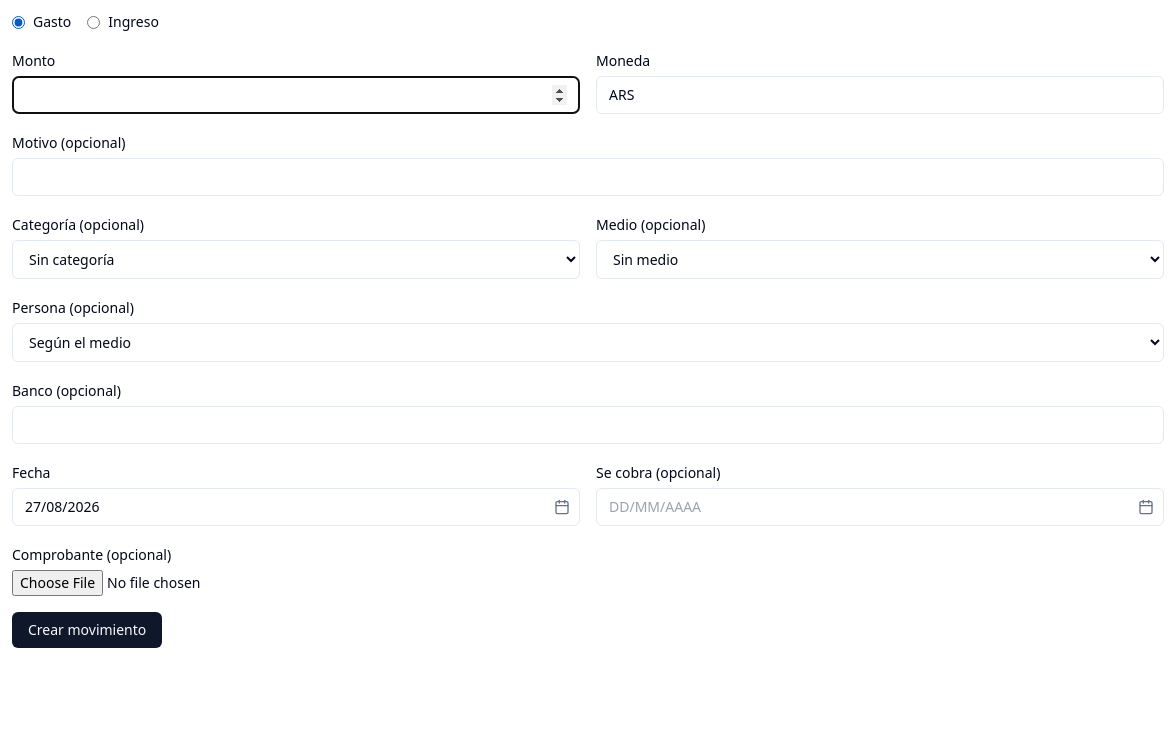
TransactionForm › exige una moneda de 3 letras
Type "100" into the number field labelled "Monto" at (296, 95), box [12, 76, 580, 114]
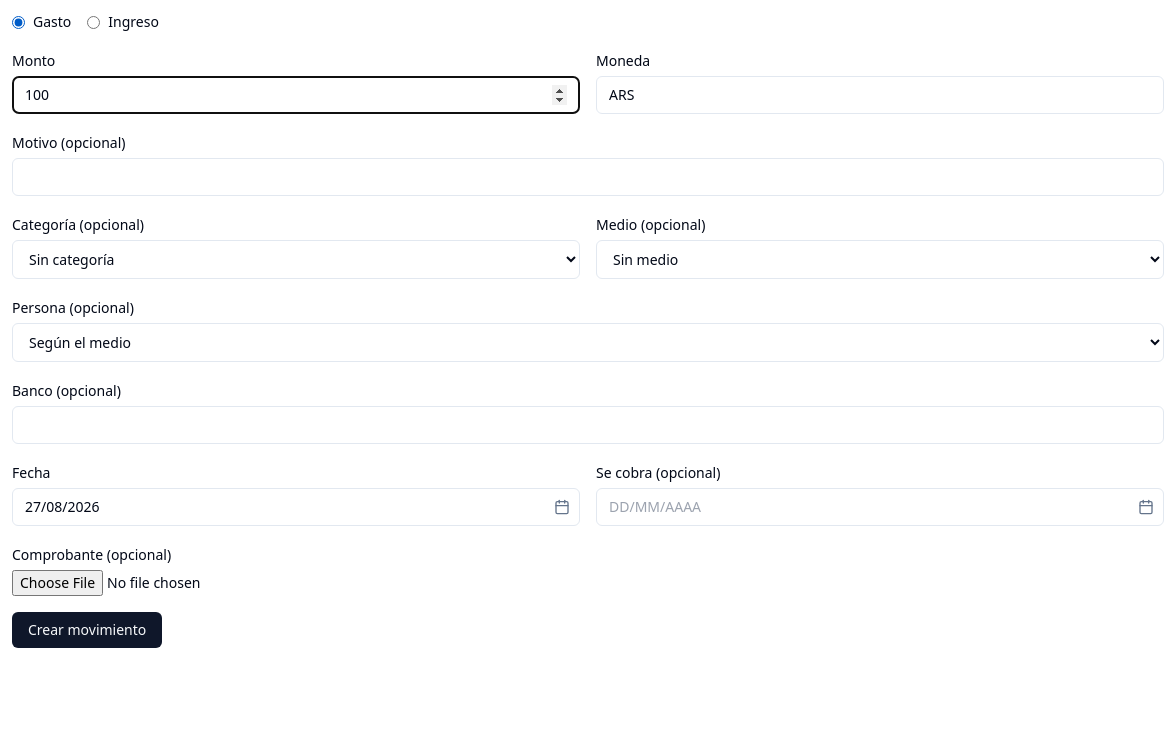
Type "AR" into the field labelled "Moneda" at (880, 95), box [596, 76, 1164, 114]
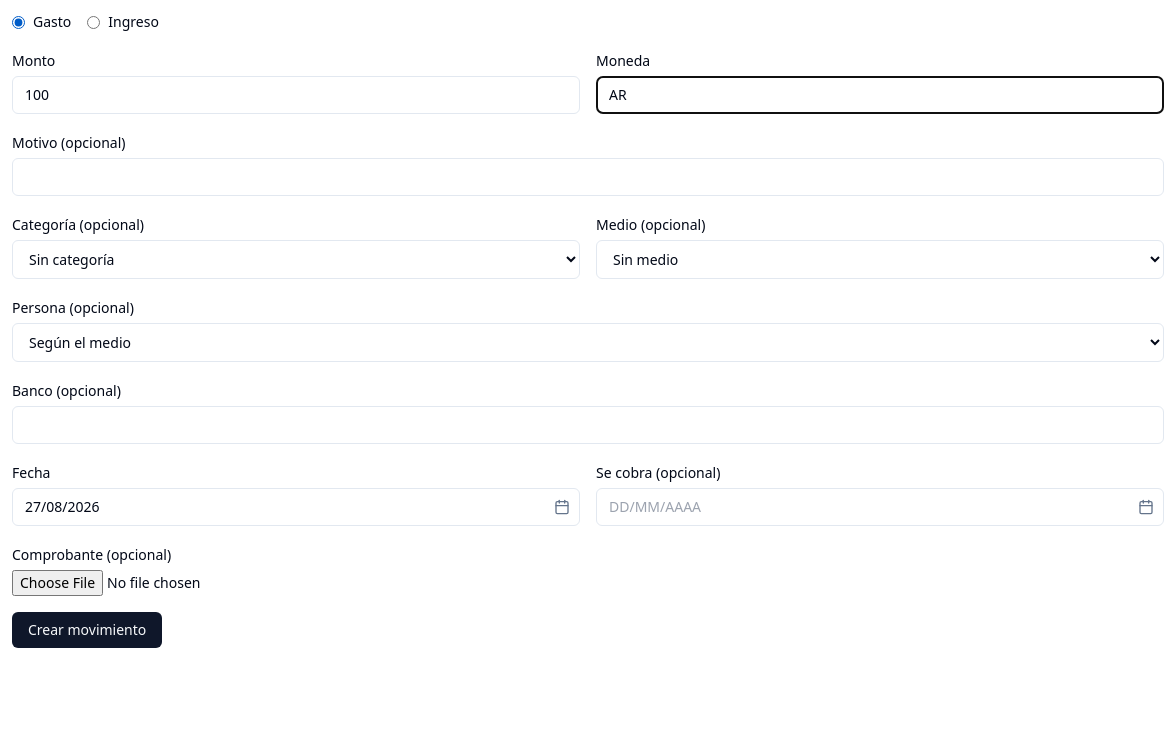
Click the button "Crear movimiento" at (87, 630), box [12, 612, 162, 648]
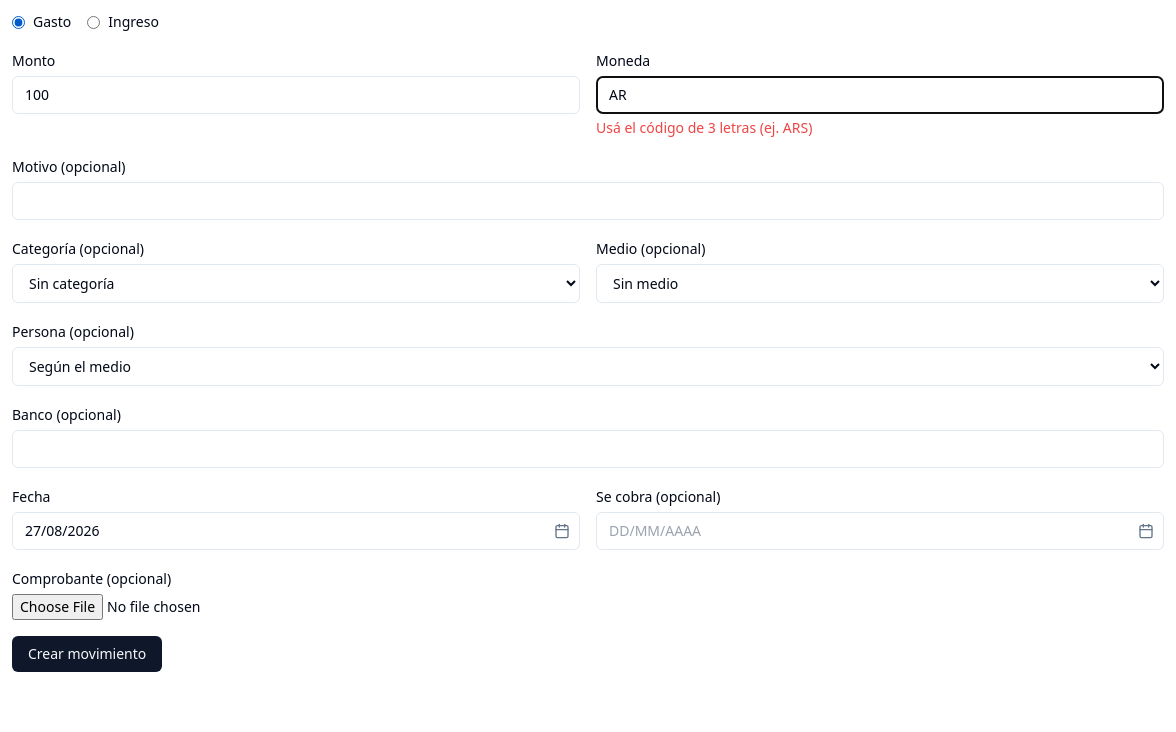
Now the text "Usá el código de 3 letras (ej. ARS)" is shown, box [596, 118, 812, 137]
